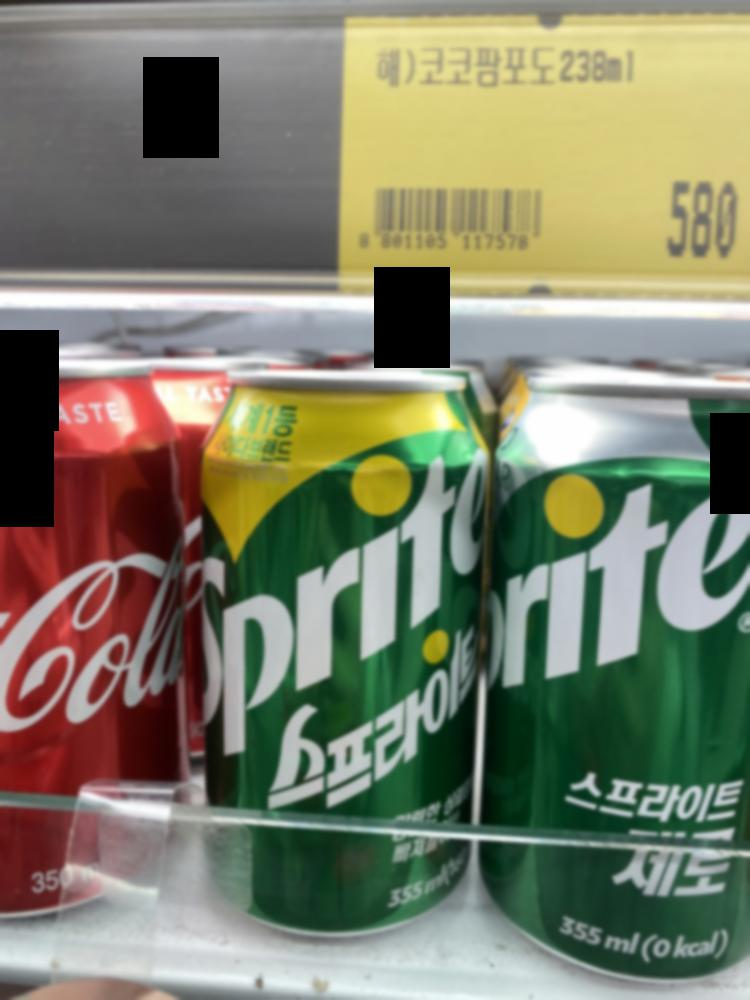sprite: (178, 363, 456, 959)
